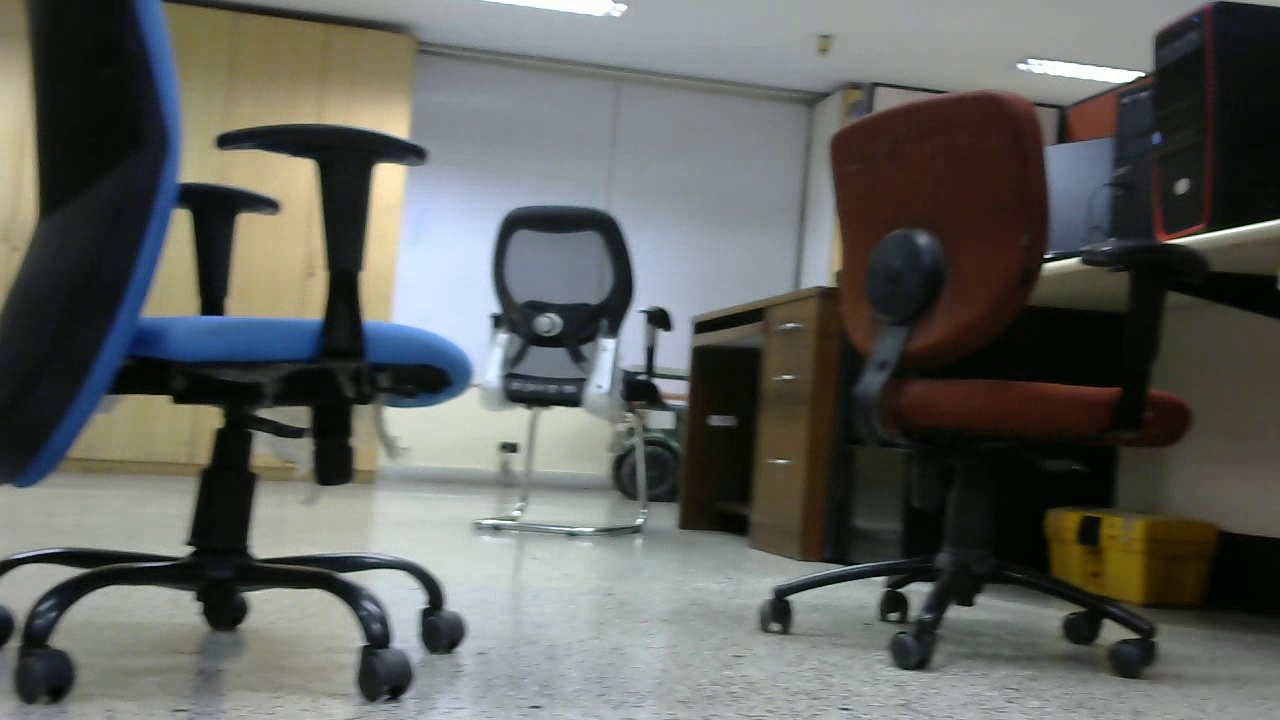chair: (14, 5, 458, 697), (771, 91, 1172, 670), (466, 199, 656, 526)
